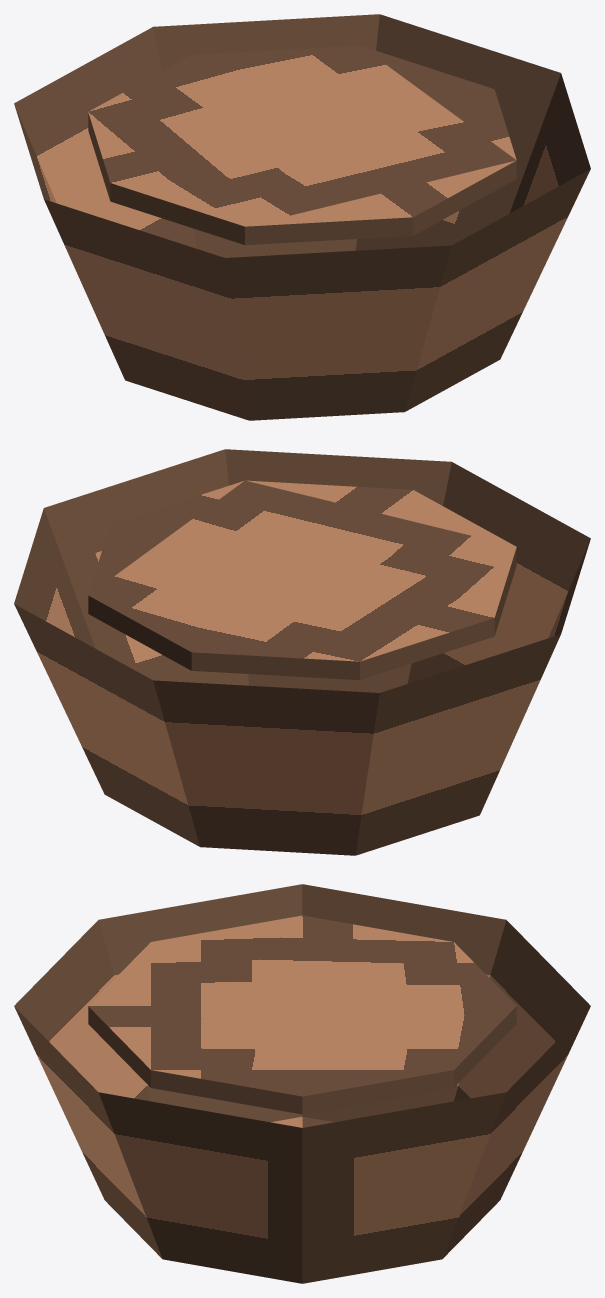
File: HangingBasket.obj
3 renders of one model, top to bottom at view 1: azimuth 30°, elevation 25°; view 2: azimuth 150°, elevation 25°; view 3: azimuth 270°, elevation 25°, orthographic. The views are drawn at different scales.
Visible parts, largest first — view 1: HangingBasket; view 2: HangingBasket; view 3: HangingBasket.
Boxes of the visible parts, x1=… form: HangingBasket: x1=14, y1=14, x2=590, y2=420; HangingBasket: x1=14, y1=449, x2=590, y2=855; HangingBasket: x1=14, y1=884, x2=590, y2=1283.
Size of the model in its own units: 0.35 by 0.13 by 0.35.
1 material, 1 textured.
